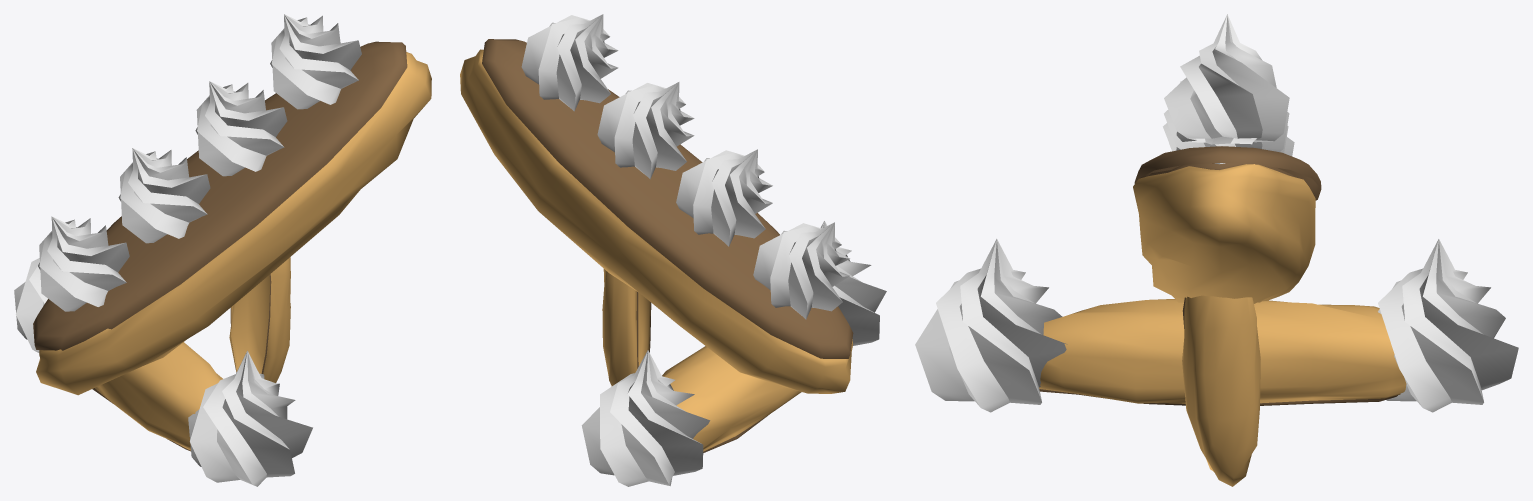
File: 3D_PU_MortierEclair.fbx
3 renders of one model, left to right at view 1: azimuth 30°, elevation 25°; view 2: azimuth 150°, elevation 25°; view 3: azimuth 270°, elevation 25°, orthographic. The views are drawn at different scales.
Parts seen in each view (by area): view 1: Napagge Chocolat, Eclair.002, Meringue.003, Eclair.001, Meringue.005, Meringue.004, Meringue.007, Meringue.002, Eclair, Meringue.006; view 2: Napagge Chocolat, Eclair.002, Meringue.006, Eclair.001, Meringue.005, Meringue.004, Meringue.007, Meringue.002, Eclair, Meringue.003; view 3: Eclair.001, Eclair.002, Meringue.003, Meringue.006, Eclair, Meringue.005, Napagge Chocolat, Meringue.004.
Boxes of the visible parts, left/top/right/bottom form: Napagge Chocolat: left=33, top=41, right=407, bottom=350; Eclair.002: left=36, top=52, right=431, bottom=395; Meringue.003: left=188, top=351, right=312, bottom=486; Eclair.001: left=92, top=342, right=222, bottom=451; Meringue.005: left=270, top=14, right=361, bottom=109; Meringue.004: left=195, top=81, right=287, bottom=176; Meringue.007: left=118, top=148, right=210, bottom=243; Meringue.002: left=38, top=216, right=129, bottom=311; Eclair: left=229, top=257, right=290, bottom=382; Meringue.006: left=14, top=258, right=47, bottom=352; Napagge Chocolat: left=482, top=39, right=853, bottom=358; Eclair.002: left=460, top=49, right=853, bottom=393; Meringue.006: left=581, top=350, right=710, bottom=486; Eclair.001: left=662, top=346, right=801, bottom=452; Meringue.005: left=521, top=14, right=618, bottom=111; Meringue.004: left=597, top=82, right=694, bottom=179; Meringue.007: left=676, top=149, right=772, bottom=246; Meringue.002: left=753, top=222, right=849, bottom=319; Eclair: left=602, top=269, right=651, bottom=386; Meringue.003: left=820, top=221, right=886, bottom=345; Eclair.001: left=1039, top=299, right=1406, bottom=405; Eclair.002: left=1133, top=163, right=1315, bottom=303; Meringue.003: left=915, top=239, right=1067, bottom=412; Meringue.006: left=1378, top=239, right=1518, bottom=412; Eclair: left=1182, top=295, right=1260, bottom=486; Meringue.005: left=1164, top=14, right=1289, bottom=144; Napagge Chocolat: left=1134, top=146, right=1321, bottom=200; Meringue.004: left=1164, top=80, right=1289, bottom=151.
Size of the model in its own units: 1.37 by 1.28 by 1.44.
